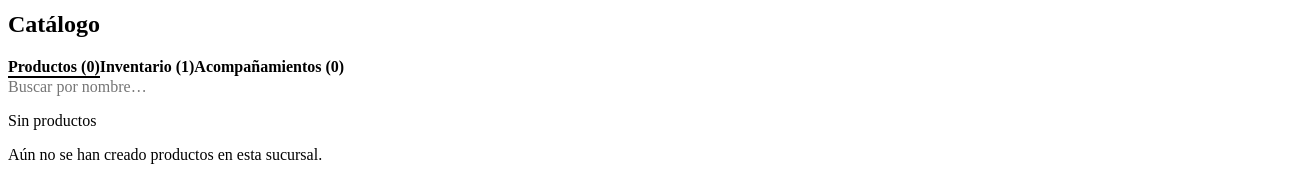
Test: CatalogPage › does not show inventory actions a user lacks permission for
Click the button "Inventario (1)". click: (147,68)
box: [100,58,194,78]
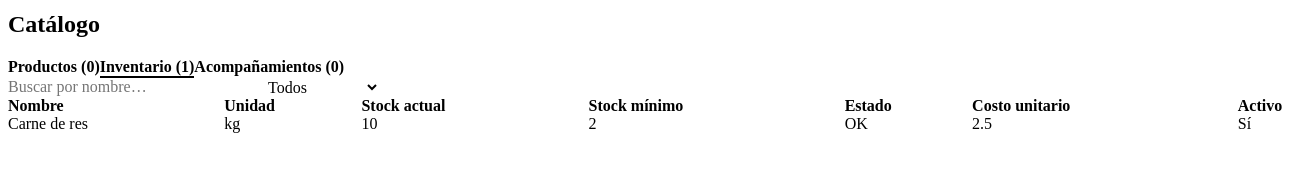
Check: the text "Carne de res" is shown, box [8,115,88,132]
